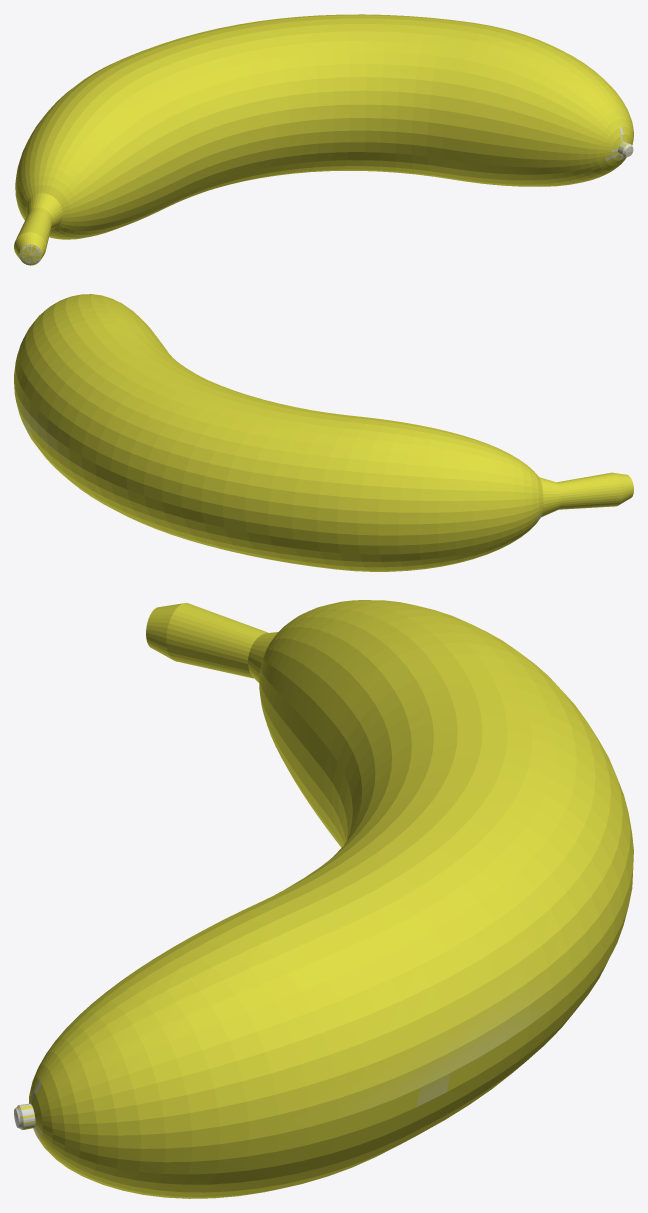
File: banana.dae
3 renders of one model, top to bottom at view 1: azimuth 30°, elevation 25°; view 2: azimuth 150°, elevation 25°; view 3: azimuth 270°, elevation 25°, orthographic. The views are drawn at different scales.
Parts seen in each view (by area): view 1: banana_banana1_001; view 2: banana_banana1_001; view 3: banana_banana1_001.
Part boxes in pixels (box(x1,y1,x2,y2)): banana_banana1_001: box(14, 14, 633, 265); banana_banana1_001: box(14, 294, 633, 571); banana_banana1_001: box(14, 600, 633, 1198).
Size of the model in its own units: 0.1457 by 0.0743 by 0.0341.
